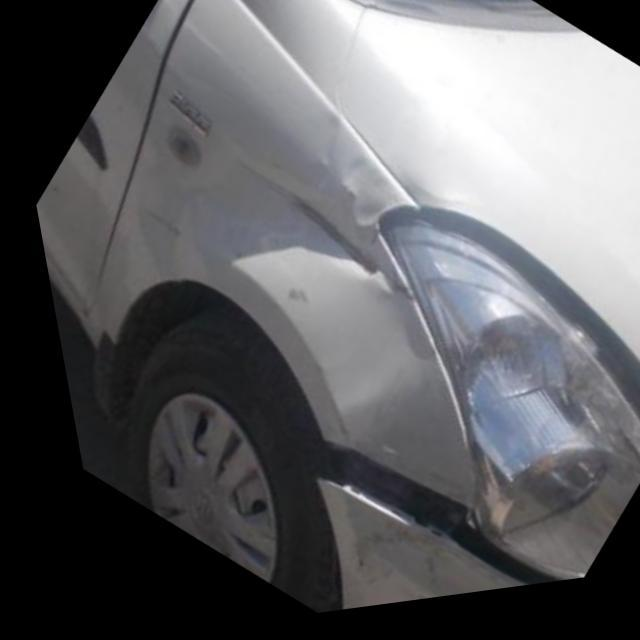dent: (168, 123, 386, 333)
dislocated part: (366, 213, 640, 472), (293, 443, 536, 596)
scratch: (229, 160, 396, 308)
